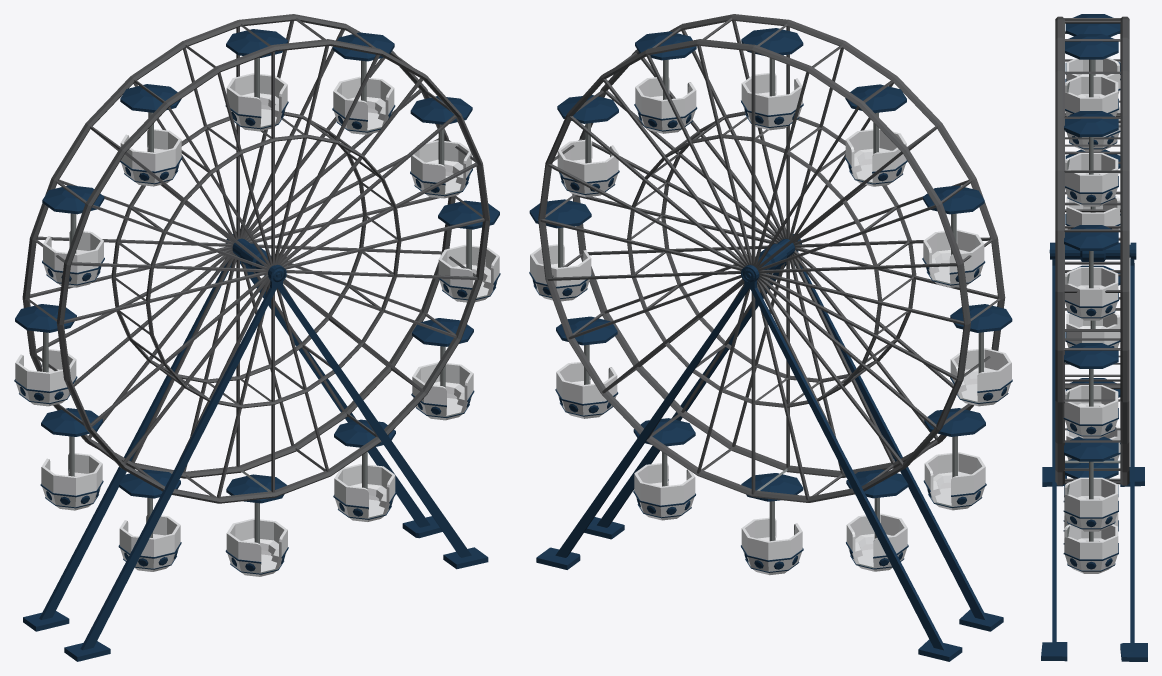
File: ferriswheel_lev2.glb
3 renders of one model, left to right at view 1: azimuth 30°, elevation 25°; view 2: azimuth 150°, elevation 25°; view 3: azimuth 270°, elevation 25°, orthographic. The views are drawn at different scales.
Parts seen in each view (by area): view 1: ferriswheel_lev2; view 2: ferriswheel_lev2; view 3: ferriswheel_lev2.
Part boxes in pixels (left/top/right/bottom): ferriswheel_lev2: left=14, top=14, right=500, bottom=661; ferriswheel_lev2: left=529, top=14, right=1012, bottom=661; ferriswheel_lev2: left=1041, top=14, right=1147, bottom=661.
Bounding box in the file's own units: 9.59 × 10.83 × 1.98.
Materials: 1 (1 with a texture image).
